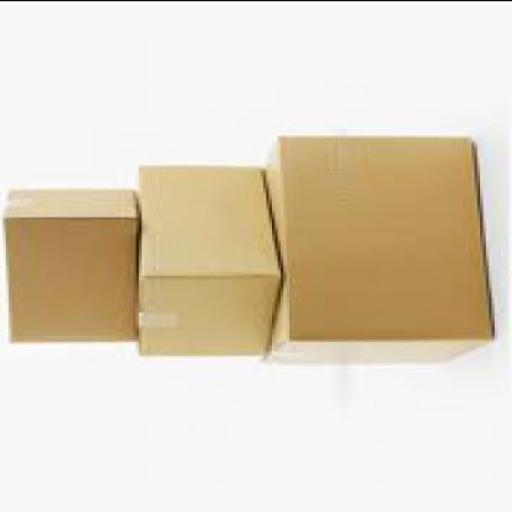cardboard: (263, 134, 495, 362), (130, 163, 280, 353), (0, 184, 137, 340)
